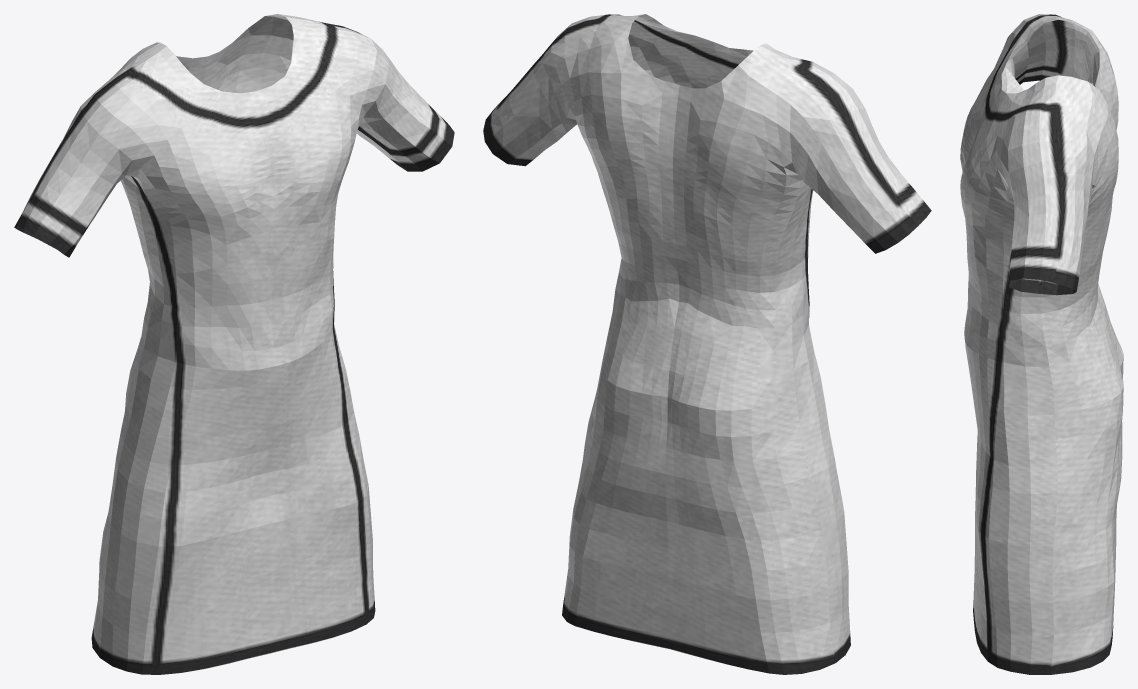
File: mhw_wdg_mycenaean_tunic.glb
3 renders of one model, left to right at view 1: azimuth 30°, elevation 25°; view 2: azimuth 150°, elevation 25°; view 3: azimuth 270°, elevation 25°, orthographic. The views are drawn at different scales.
Parts seen in each view (by area): view 1: mhw_wdg_mycenaean_tunic; view 2: mhw_wdg_mycenaean_tunic; view 3: mhw_wdg_mycenaean_tunic.
Part boxes in pixels (x1,y1,x2,y2): mhw_wdg_mycenaean_tunic: [14, 14, 454, 674]; mhw_wdg_mycenaean_tunic: [483, 14, 931, 674]; mhw_wdg_mycenaean_tunic: [960, 14, 1123, 674].
Bounding box in the file's own units: 0.7719 × 1.02 × 0.2674.
Materials: 1 (1 with a texture image).
